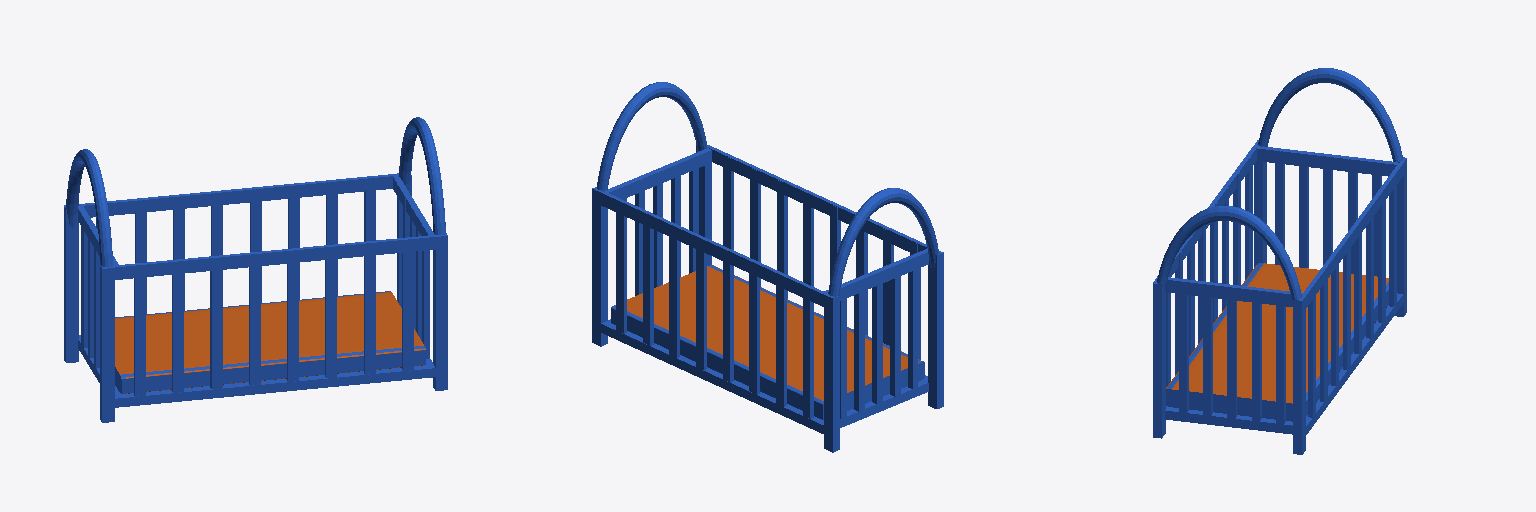
3 renders of one model, left to right at view 1: azimuth 30°, elevation 25°; view 2: azimuth 150°, elevation 25°; view 3: azimuth 270°, elevation 25°, orthographic.
Visible parts, largest first — view 1: Cube.011_Cube.023; view 2: Cube.011_Cube.023; view 3: Cube.011_Cube.023.
Part boxes in pixels (x1,y1,x2,y2): Cube.011_Cube.023: (64, 117, 447, 422); Cube.011_Cube.023: (592, 82, 943, 452); Cube.011_Cube.023: (1153, 68, 1406, 454).
Bounding box in the file's own units: 17.51 × 12.07 × 11.74.
Materials: 1 (1 with a texture image).